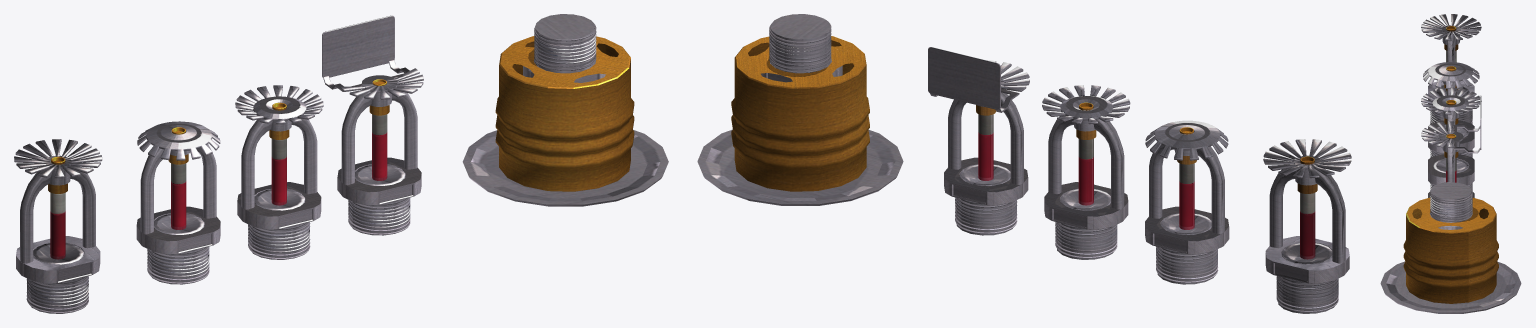
The model's file is pentou.FBX.
3 renders of one model, left to right at view 1: azimuth 30°, elevation 25°; view 2: azimuth 150°, elevation 25°; view 3: azimuth 270°, elevation 25°, orthographic. The views are drawn at different scales.
Visible parts, largest first — view 1: 隐蔽吊顶型洒水喷头, 边墙型洒水喷头, 普通型洒水喷头, 下垂型洒水喷头, 直立型洒水喷头; view 2: 隐蔽吊顶型洒水喷头, 边墙型洒水喷头, 下垂型洒水喷头, 普通型洒水喷头, 直立型洒水喷头; view 3: 隐蔽吊顶型洒水喷头, 普通型洒水喷头, 下垂型洒水喷头, 直立型洒水喷头, 边墙型洒水喷头.
Boxes of the visible parts, <box> form: 隐蔽吊顶型洒水喷头: <box>462,14,668,206</box>; 边墙型洒水喷头: <box>322,15,423,235</box>; 普通型洒水喷头: <box>235,85,323,259</box>; 下垂型洒水喷头: <box>14,139,102,313</box>; 直立型洒水喷头: <box>136,121,220,284</box>; 隐蔽吊顶型洒水喷头: <box>697,14,903,205</box>; 边墙型洒水喷头: <box>928,47,1029,235</box>; 下垂型洒水喷头: <box>1263,139,1351,313</box>; 普通型洒水喷头: <box>1042,85,1130,259</box>; 直立型洒水喷头: <box>1145,120,1229,284</box>; 隐蔽吊顶型洒水喷头: <box>1380,182,1521,313</box>; 普通型洒水喷头: <box>1421,88,1481,190</box>; 下垂型洒水喷头: <box>1421,14,1481,123</box>; 直立型洒水喷头: <box>1423,62,1479,157</box>; 边墙型洒水喷头: <box>1421,95,1481,197</box>.
Bounding box in the file's own units: 7.75 × 2.15 × 2.18.
5 materials, 5 textured.
